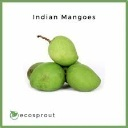mango: (30, 61, 65, 93), (46, 35, 80, 66)
